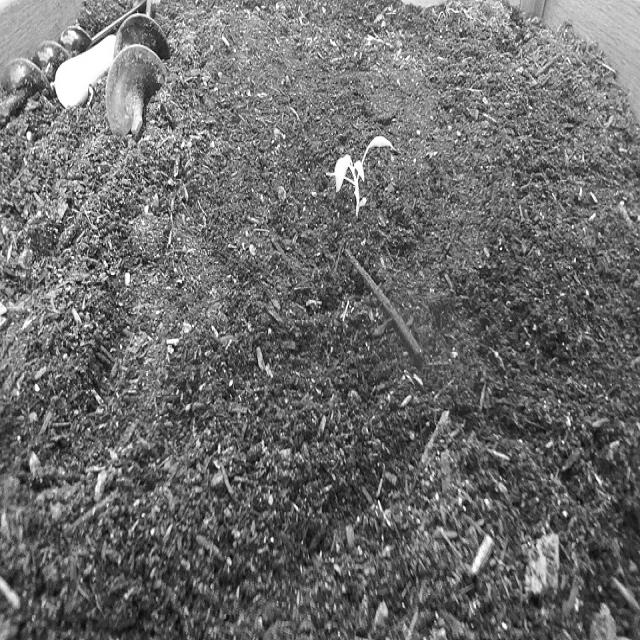Healthy: (324, 131, 396, 220)
